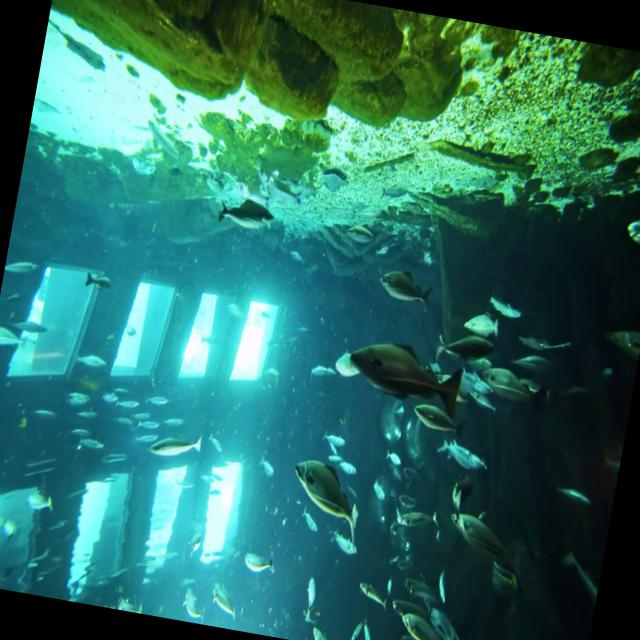fish: (344, 334, 469, 422), (286, 450, 367, 534), (374, 257, 438, 316), (147, 424, 203, 472), (218, 197, 278, 240)
